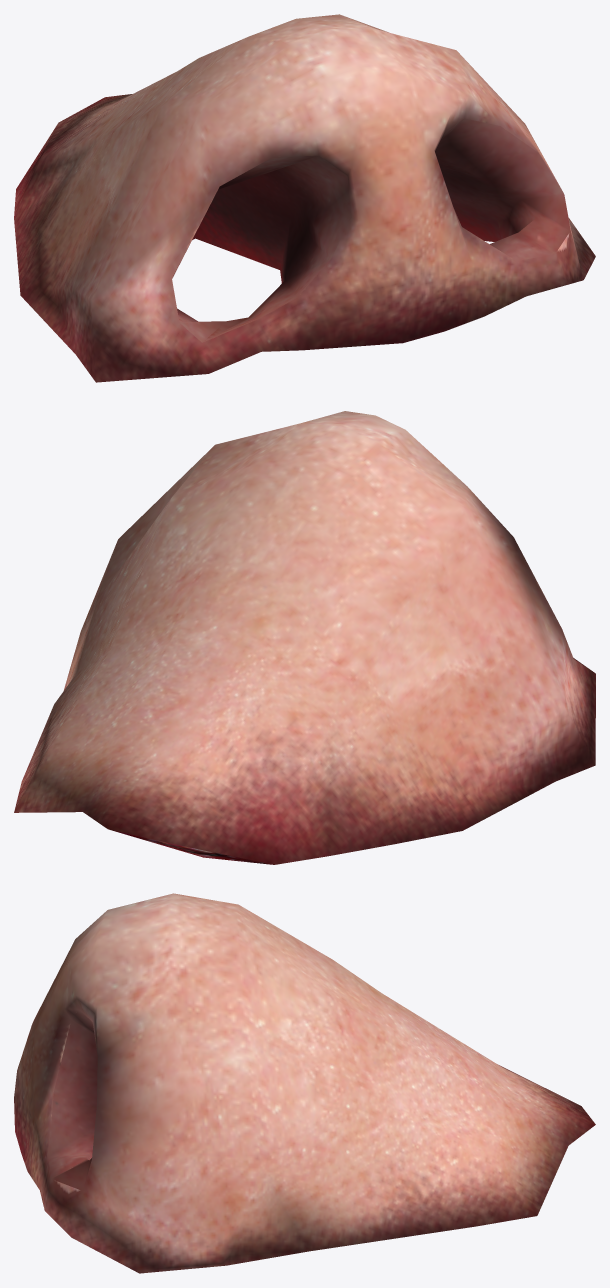
The model's file is Nose_2_low.fbx.
3 views of the same model, one above another, from view 1: azimuth 30°, elevation 25°; view 2: azimuth 150°, elevation 25°; view 3: azimuth 270°, elevation 25° (orthographic). The views are drawn at different scales.
Parts seen in each view (by area): view 1: nose_2_low; view 2: nose_2_low; view 3: nose_2_low.
Boxes of the visible parts, left/top/right/bottom form: nose_2_low: left=14, top=14, right=595, bottom=382; nose_2_low: left=14, top=411, right=595, bottom=864; nose_2_low: left=14, top=893, right=595, bottom=1273.
Size of the model in its own units: 0.042 by 0.0236 by 0.0461.
